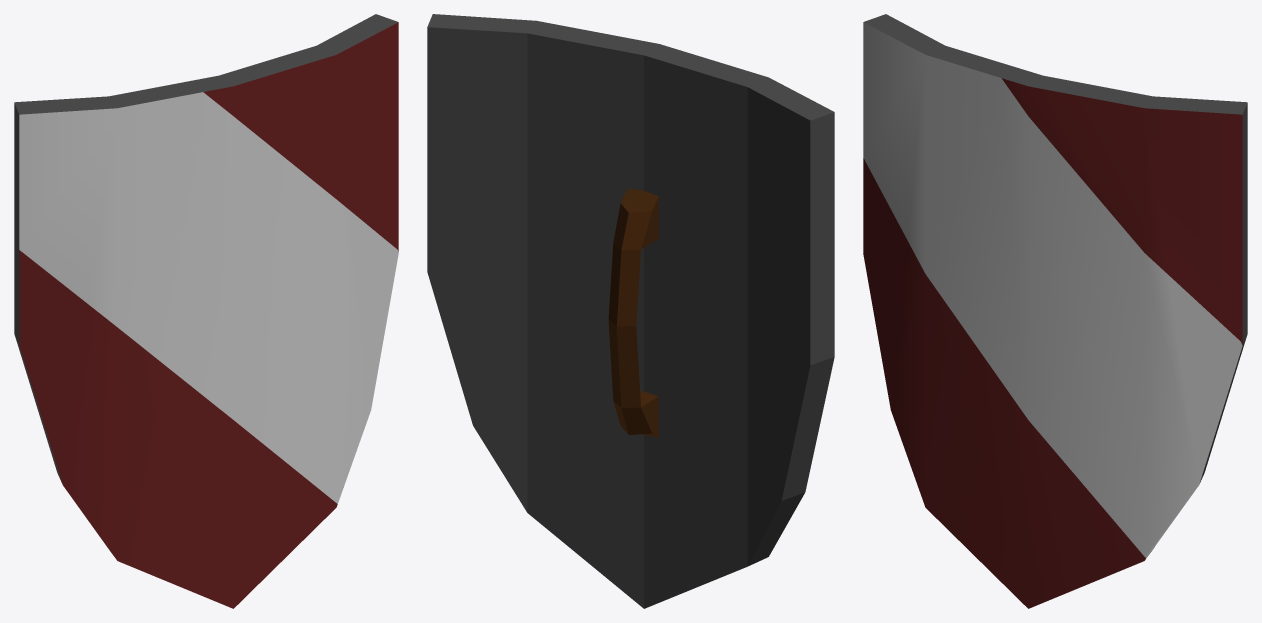
File: Knight_Shield.fbx
3 renders of one model, left to right at view 1: azimuth 30°, elevation 25°; view 2: azimuth 150°, elevation 25°; view 3: azimuth 330°, elevation 25°, orthographic. The views are drawn at different scales.
Visible parts, largest first — view 1: Shield_striped, Shield_Base; view 2: Shield_Base; view 3: Shield_striped, Shield_Base.
Boxes of the visible parts, x1,y1,x2,y2 form: Shield_striped: (19, 22, 398, 608); Shield_Base: (14, 14, 398, 552); Shield_Base: (427, 14, 834, 608); Shield_striped: (863, 22, 1242, 608); Shield_Base: (863, 14, 1247, 552).
Bounding box in the file's own units: 0.7977 × 1.05 × 0.1479.
